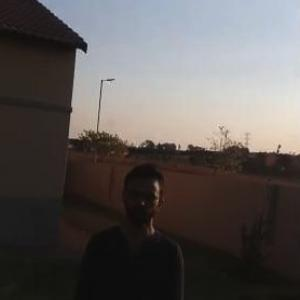follow: (64, 149, 186, 299)
